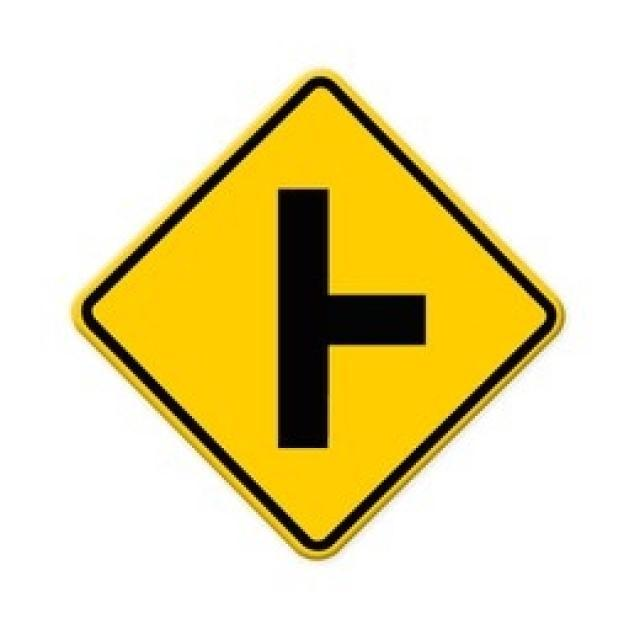side road right: (72, 68, 564, 557)
